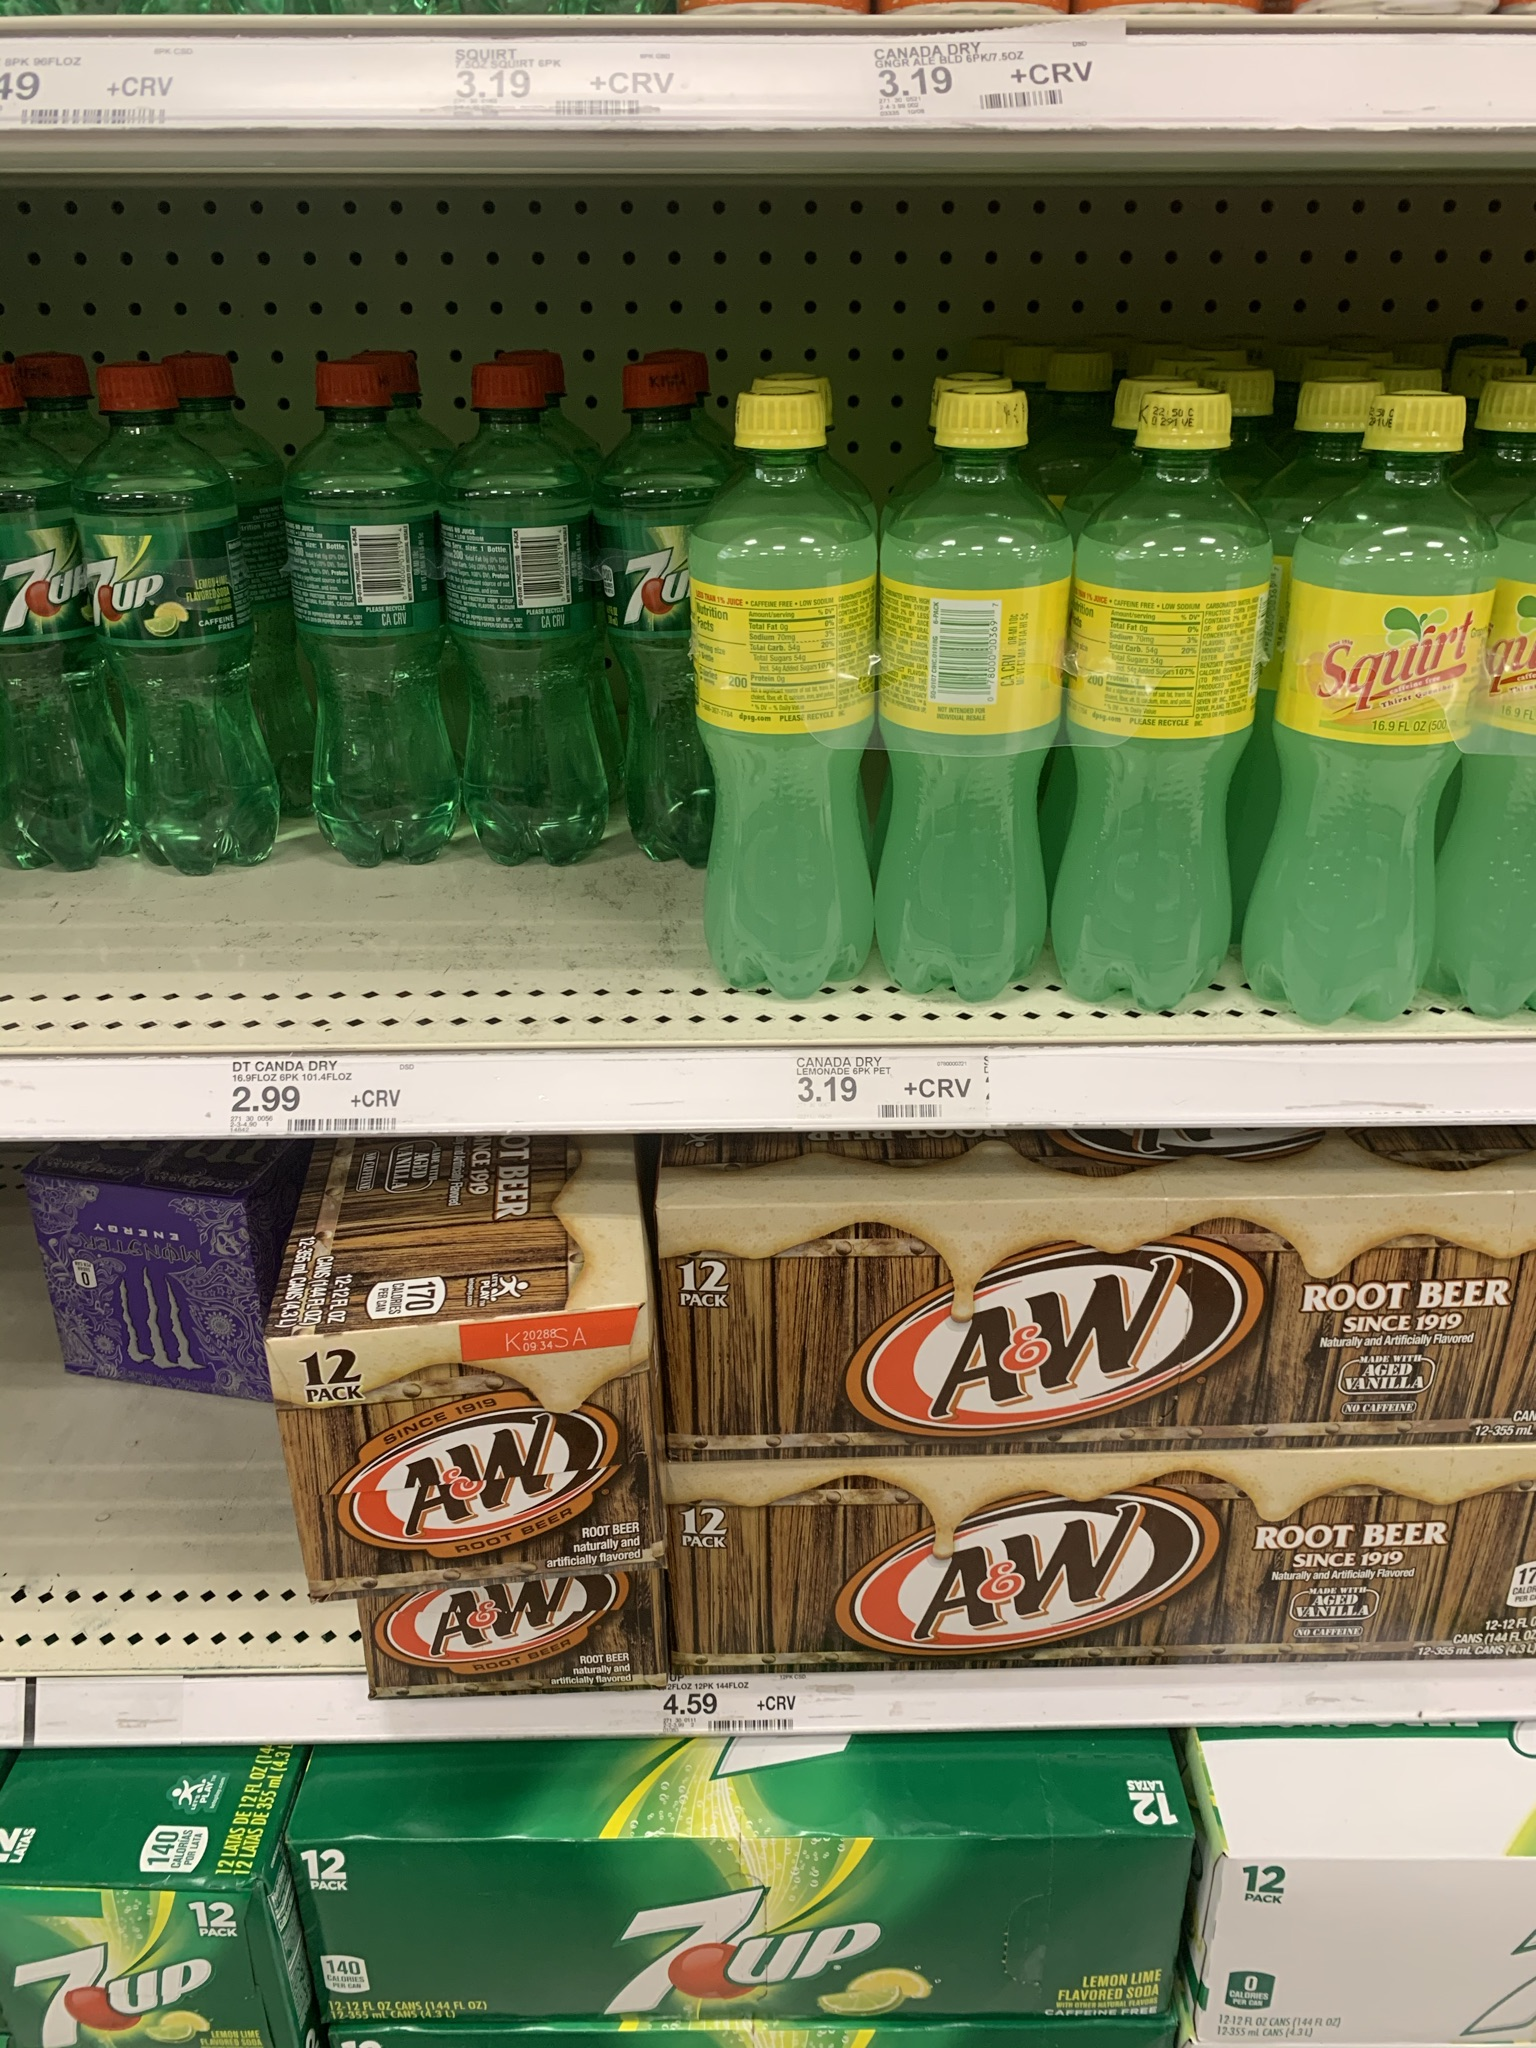Soda: (660, 1200, 1536, 1448), (297, 1834, 1197, 2021), (1265, 387, 1496, 1016), (687, 387, 878, 1006), (1066, 376, 1241, 1013), (886, 384, 1052, 1009), (79, 363, 278, 871), (286, 358, 453, 864), (458, 356, 616, 863)
